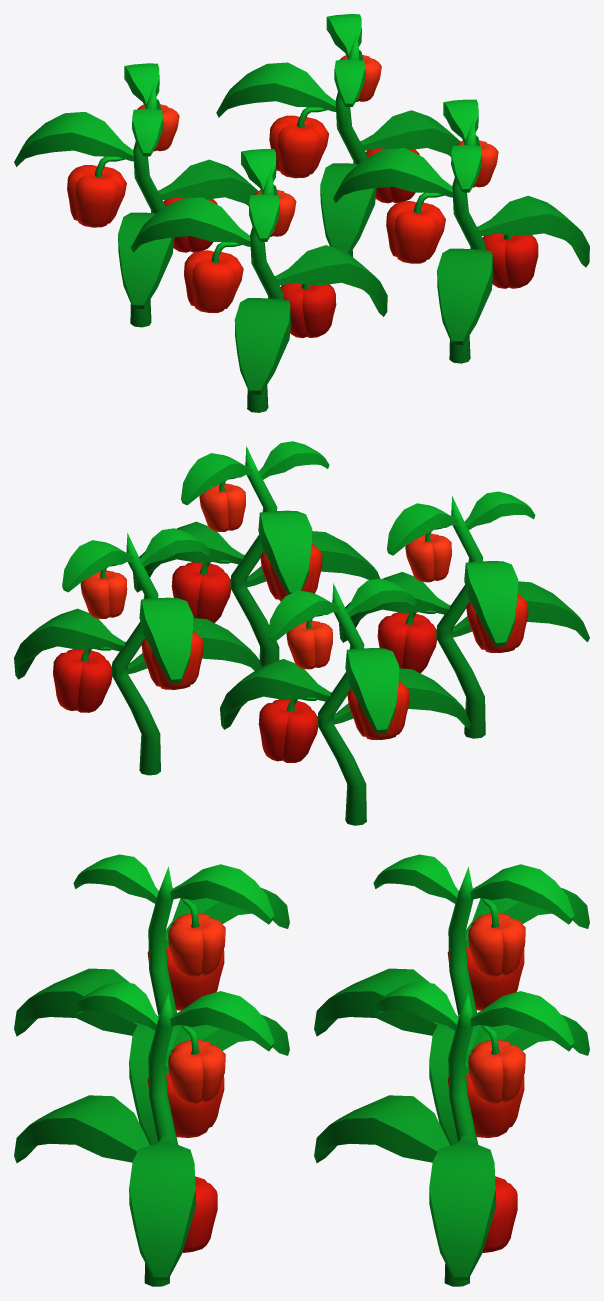
File: Farm_Crop_Capsicum_Step_03.fbx
3 renders of one model, top to bottom at view 1: azimuth 30°, elevation 25°; view 2: azimuth 150°, elevation 25°; view 3: azimuth 270°, elevation 25°, orthographic. The views are drawn at different scales.
Visible parts, largest first — view 1: Farm_Crop_Capsicum_Step_03; view 2: Farm_Crop_Capsicum_Step_03; view 3: Farm_Crop_Capsicum_Step_03.
Part boxes in pixels (box(x1,y1,x2,y2)): Farm_Crop_Capsicum_Step_03: box(14, 14, 589, 412); Farm_Crop_Capsicum_Step_03: box(14, 441, 589, 825); Farm_Crop_Capsicum_Step_03: box(14, 854, 589, 1286).
Bounding box in the file's own units: 203 × 110 × 192.
